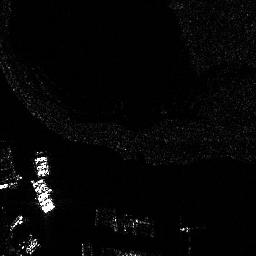ship: (8, 215, 23, 231)
